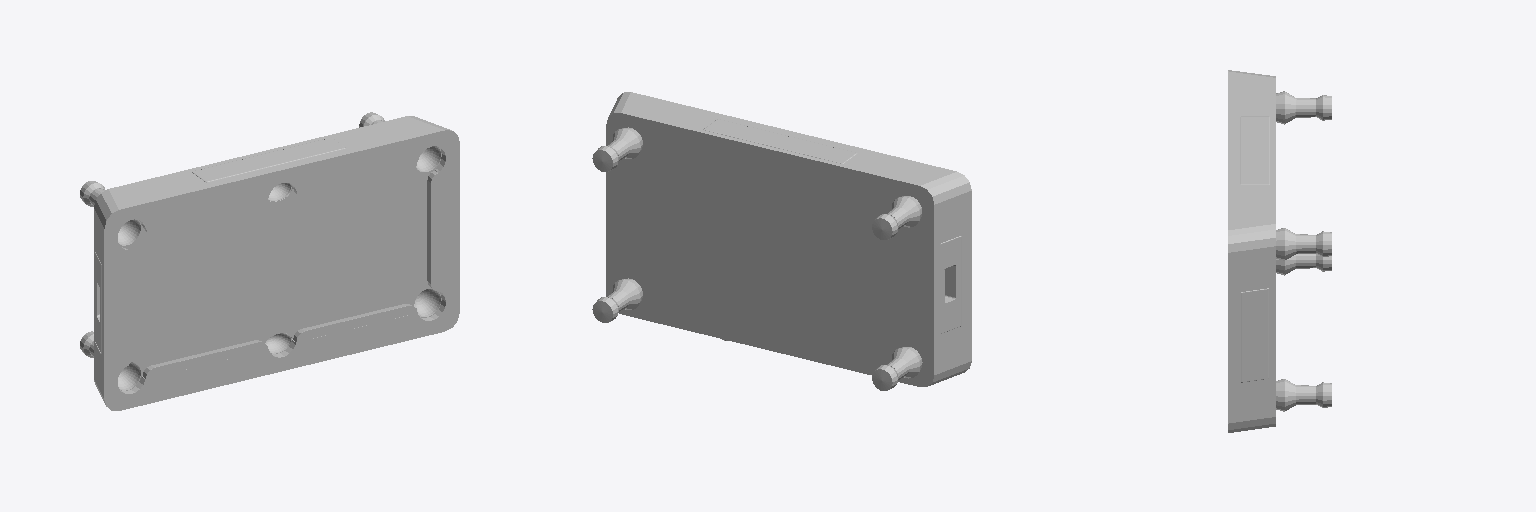
The model's file is pool_table.obj.
3 views of the same model, side by side, from view 1: azimuth 30°, elevation 25°; view 2: azimuth 150°, elevation 25°; view 3: azimuth 270°, elevation 25° (orthographic).
Size of the model in its own units: 111 by 62.79 by 28.29.